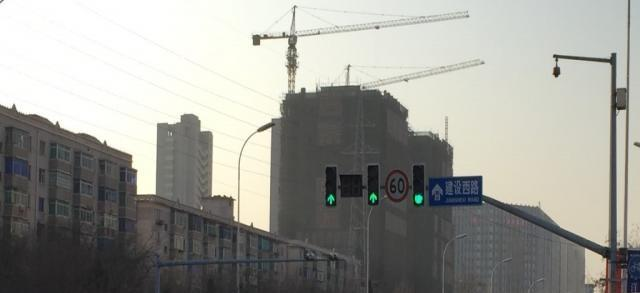green_light: (366, 163, 380, 206), (413, 164, 425, 206), (325, 166, 337, 207)
